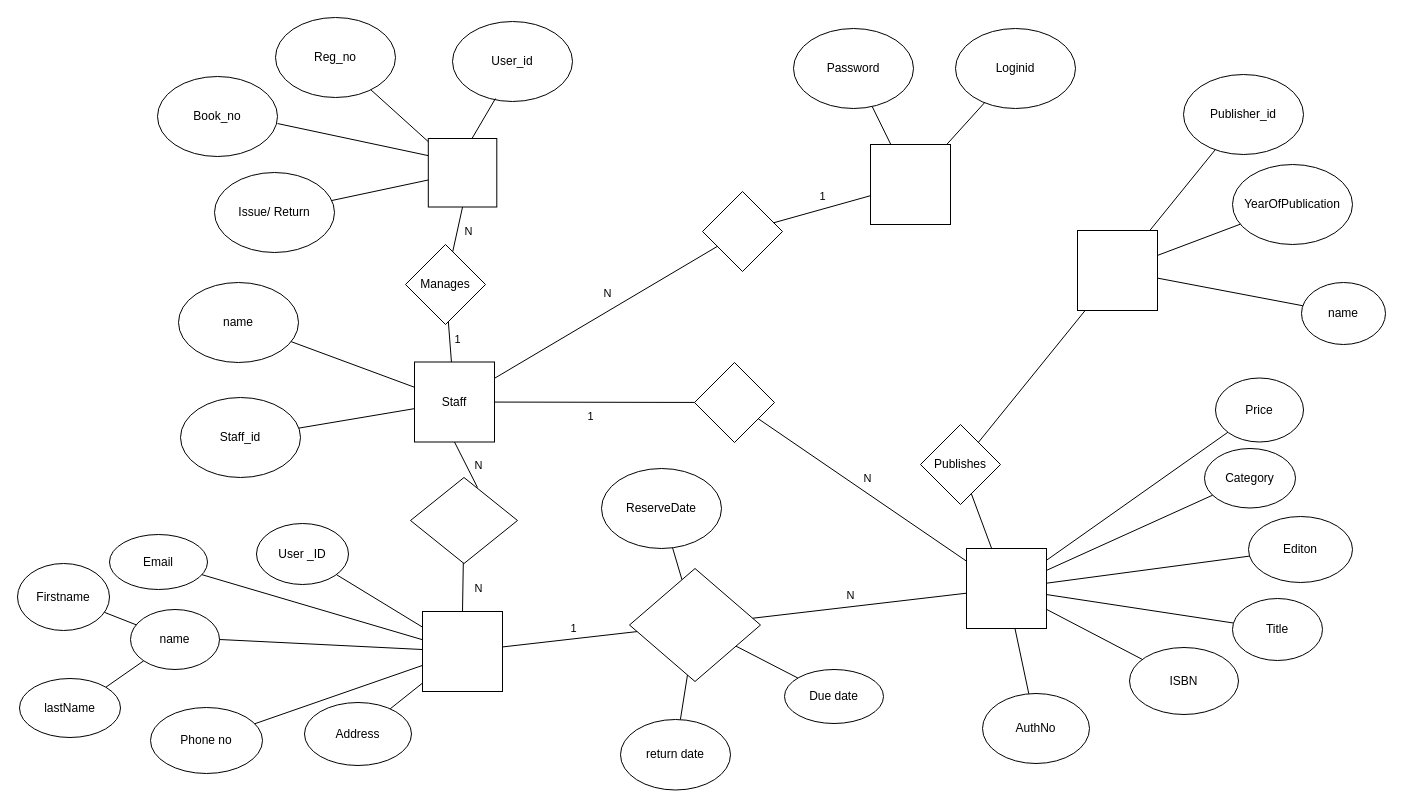
The diagram is 1403 pixels wide and 808 high, and some of its shapes have lost their labels. The centre of each missing label's shape, as x and y in pixels:
"Authentication System" belongs at [910,184].
"Books" belongs at [1006,588].
"Keep track of" belongs at [464,520].
"Login" belongs at [742,231].
"maintain" belongs at [734,402].
"Publisher" belongs at [1117,270].
"Readers" belongs at [462,651].
"Reports" belongs at [462,172].
"reserve/ return date" belongs at [694,625].
